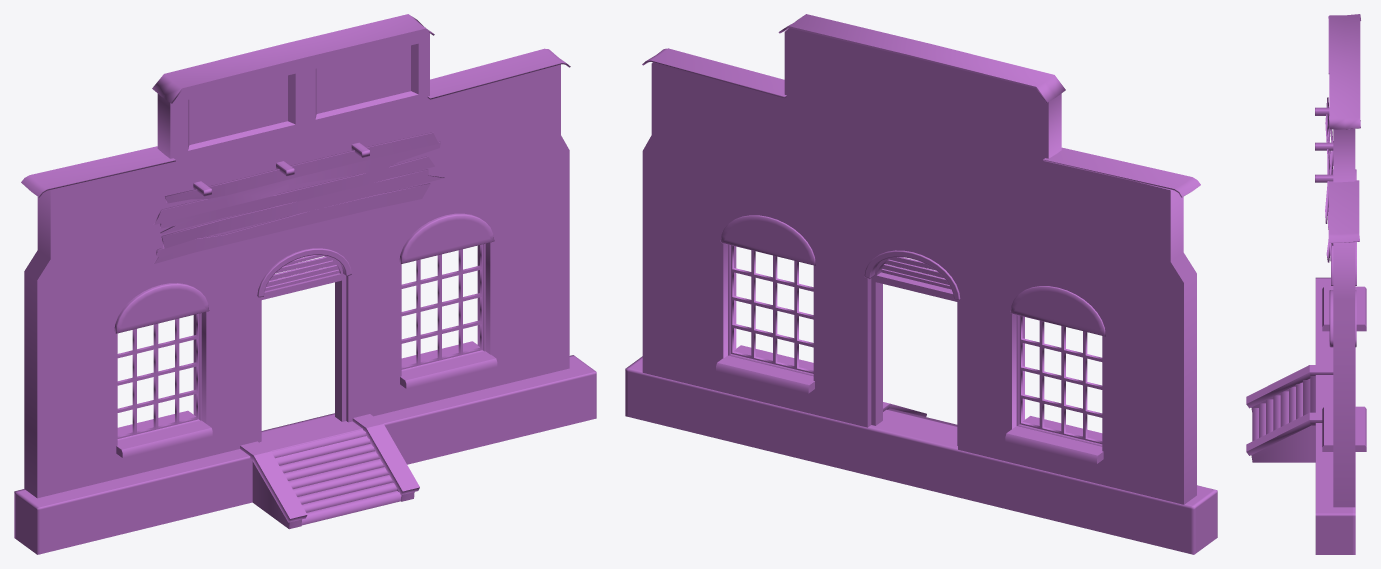
The model's file is Indbuilding2_End_A.fbx.
The picture shows the model from 3 angles, left to right: view 1: azimuth 30°, elevation 25°; view 2: azimuth 150°, elevation 25°; view 3: azimuth 270°, elevation 25°; orthographic projection. The views are drawn at different scales.
Visible parts, largest first — view 1: IndBuilding2_End_A; view 2: IndBuilding2_End_A; view 3: IndBuilding2_End_A.
Part boxes in pixels (x1,y1,x2,y2): IndBuilding2_End_A: (14, 14, 596, 554); IndBuilding2_End_A: (625, 14, 1217, 554); IndBuilding2_End_A: (1246, 14, 1366, 554).
Bounding box in the file's own units: 12.6 × 9.18 × 2.71.
